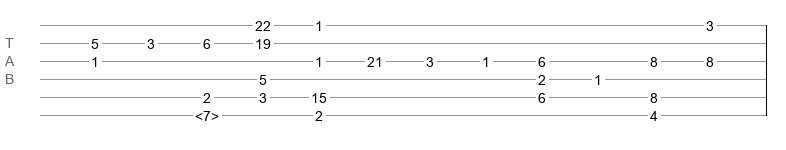1: (91, 54, 99, 64), (315, 18, 323, 28), (315, 54, 323, 64), (482, 54, 490, 64), (594, 72, 602, 82)
15: (311, 90, 327, 100)
19: (255, 36, 271, 46)
2: (203, 90, 211, 100), (315, 108, 323, 118), (538, 72, 546, 82)
21: (367, 54, 383, 64)
22: (255, 18, 271, 28)
3: (147, 36, 155, 46), (259, 90, 267, 100), (426, 54, 434, 64), (706, 18, 714, 28)
4: (650, 108, 658, 118)
5: (91, 36, 99, 46), (259, 72, 267, 82)
6: (203, 36, 211, 46), (538, 54, 546, 64), (538, 90, 546, 100)
8: (650, 90, 658, 100), (650, 54, 658, 64), (706, 54, 714, 64)
harmonic: (195, 108, 219, 118)
